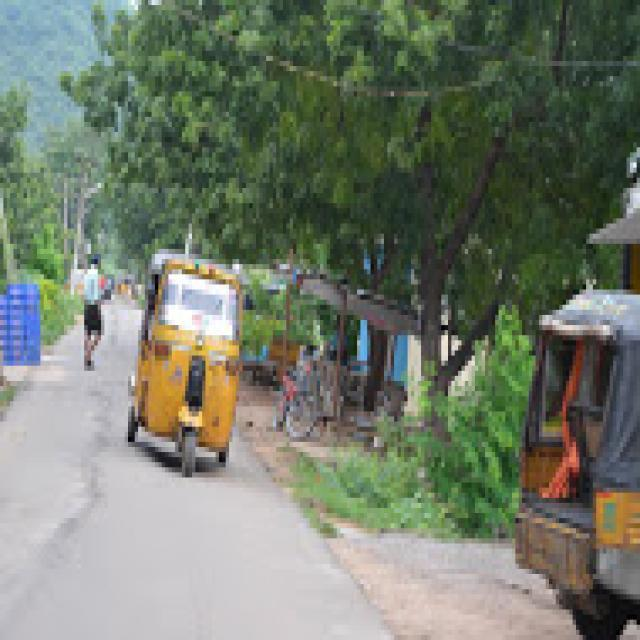auto_front: (130, 249, 256, 494)
